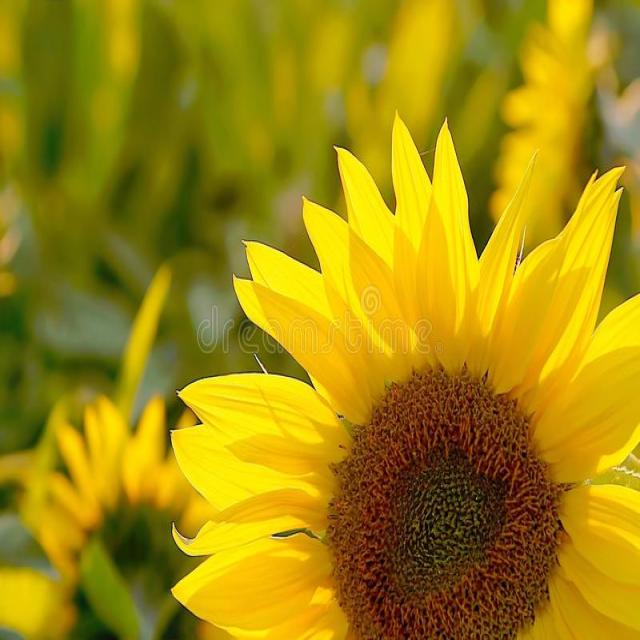sunflower: (153, 93, 640, 640)
